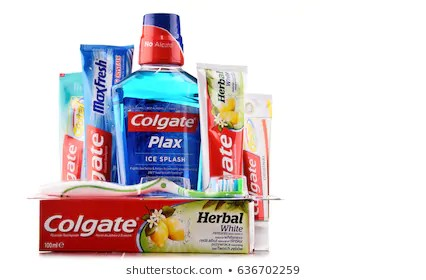colgate-Plax: (112, 8, 201, 194)
colgate-medium: (37, 197, 254, 256)
toothbrush: (42, 174, 250, 199)
